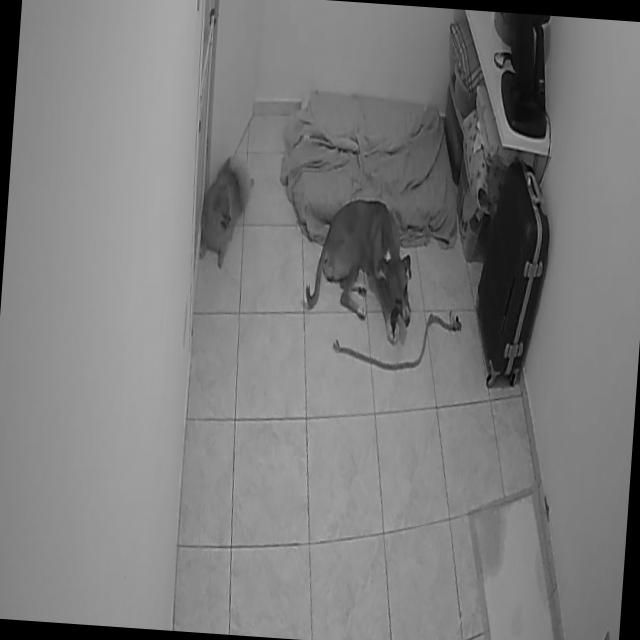laying down: (300, 186, 419, 350), (192, 152, 257, 274)
